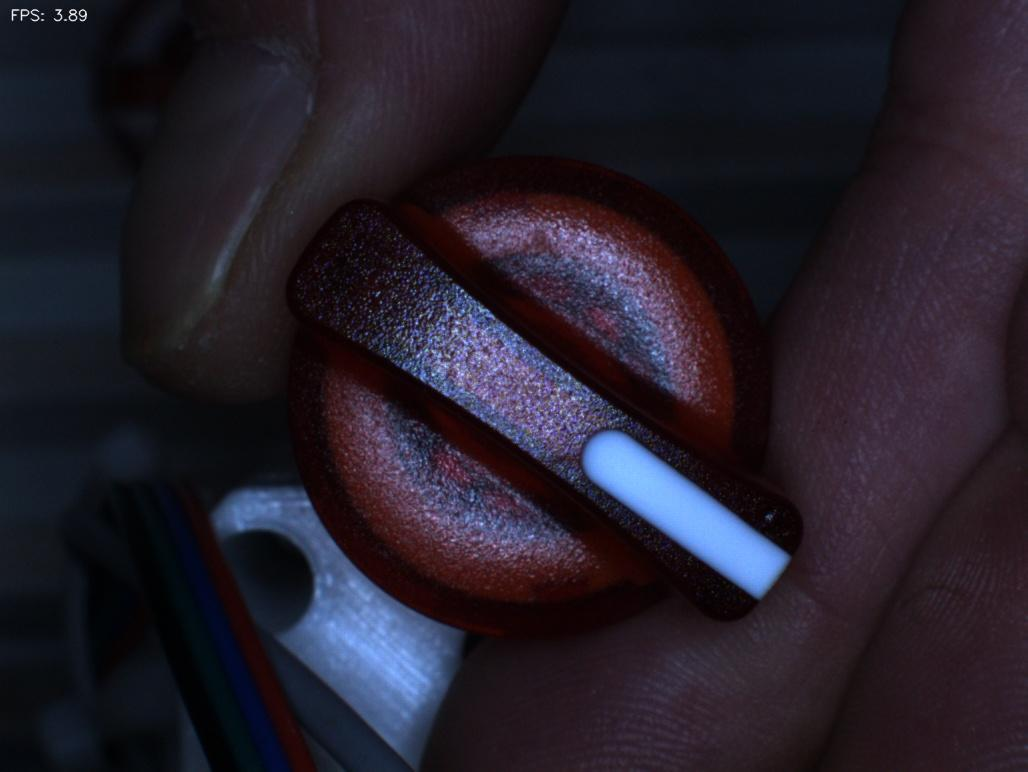Choc: (718, 461, 820, 553)
